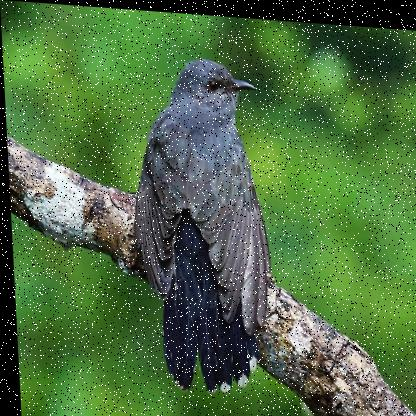Burung: (126, 50, 275, 396)
